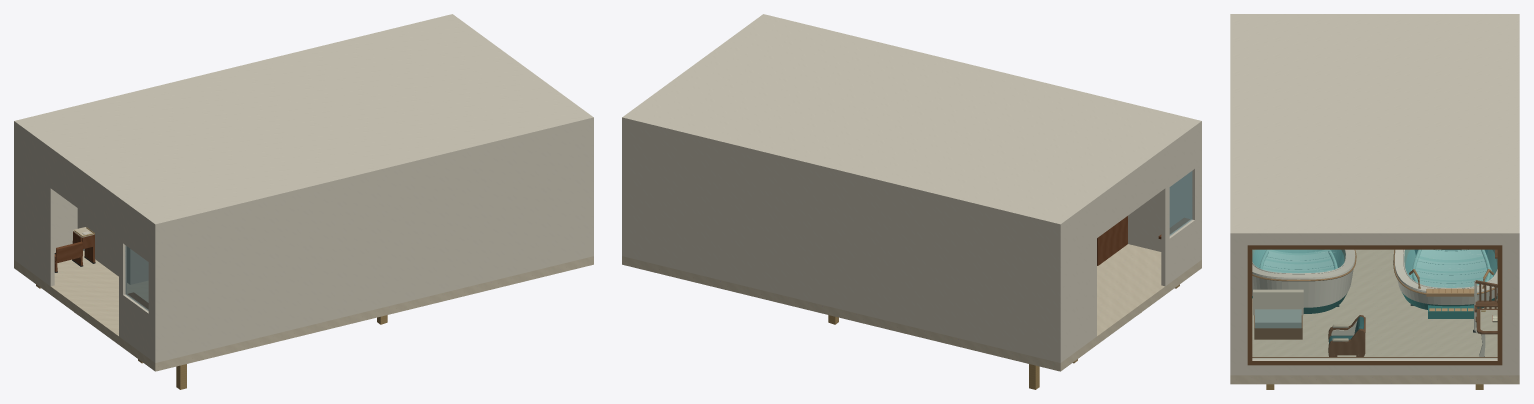
Rendered from NG554_PanoramicSuite_r001.glb.
3 views of the same model, side by side, from view 1: azimuth 30°, elevation 25°; view 2: azimuth 150°, elevation 25°; view 3: azimuth 270°, elevation 25° (orthographic). The views are drawn at different scales.
Visible parts, largest first — view 1: NG554_RuntimeBatch_001, NG554_RoomFloor, NG554_ScreenedStreetGlass, NG554_RuntimeBatch_013; view 2: NG554_RuntimeBatch_001, NG554_RoomFloor, NG554_ScreenedStreetGlass, NG554_RuntimeBatch_002; view 3: NG554_RuntimeBatch_001, NGP_554_PrivateViewPane, NG554_RoomFloor, NG554_ReservedRestSupport_02__Hollow continuous basin shell , NG554_ReservedRestSupport_01__WaterSurface_VisualOnly, NG554_ReservedRestSupport_01__Contoured broad immersed rest , NG554_ReservedRestSupport_01__Hollow continuous basin shell , NG554_ReservedRestSupport_02__WaterSurface_VisualOnly, NGP_554_Frame_Sill, NG554_ReservedRestSupport_02__Contoured broad immersed rest , NGP_554_Frame_Head, NGP_554_ViewSeat_Back (+10 smaller).
Part boxes in pixels (x1,y1,x2,y2): NG554_RuntimeBatch_001: (14, 14, 593, 362); NG554_RoomFloor: (14, 250, 593, 371); NG554_ScreenedStreetGlass: (125, 245, 148, 310); NG554_RuntimeBatch_013: (54, 231, 95, 271); NG554_RuntimeBatch_001: (622, 14, 1201, 362); NG554_RoomFloor: (622, 244, 1201, 371); NG554_ScreenedStreetGlass: (1169, 171, 1192, 235); NG554_RuntimeBatch_002: (1097, 216, 1190, 265); NG554_RuntimeBatch_001: (1230, 14, 1519, 375); NGP_554_PrivateViewPane: (1252, 250, 1497, 358); NG554_RoomFloor: (1230, 249, 1519, 384); NG554_ReservedRestSupport_02__Hollow continuous basin shell : (1252, 249, 1355, 313); NG554_ReservedRestSupport_01__WaterSurface_VisualOnly: (1406, 250, 1496, 287); NG554_ReservedRestSupport_01__Contoured broad immersed rest : (1412, 249, 1490, 287); NG554_ReservedRestSupport_01__Hollow continuous basin shell : (1394, 249, 1497, 309); NG554_ReservedRestSupport_02__WaterSurface_VisualOnly: (1253, 250, 1343, 272); NGP_554_Frame_Sill: (1247, 357, 1502, 365); NG554_ReservedRestSupport_02__Contoured broad immersed rest : (1263, 249, 1334, 273); NGP_554_Frame_Head: (1247, 245, 1502, 249); NGP_554_ViewSeat_Back: (1253, 289, 1303, 315).
Bounding box in the file's own units: 12.9 × 5.31 × 7.2.
Materials: 83 (49 with a texture image).
